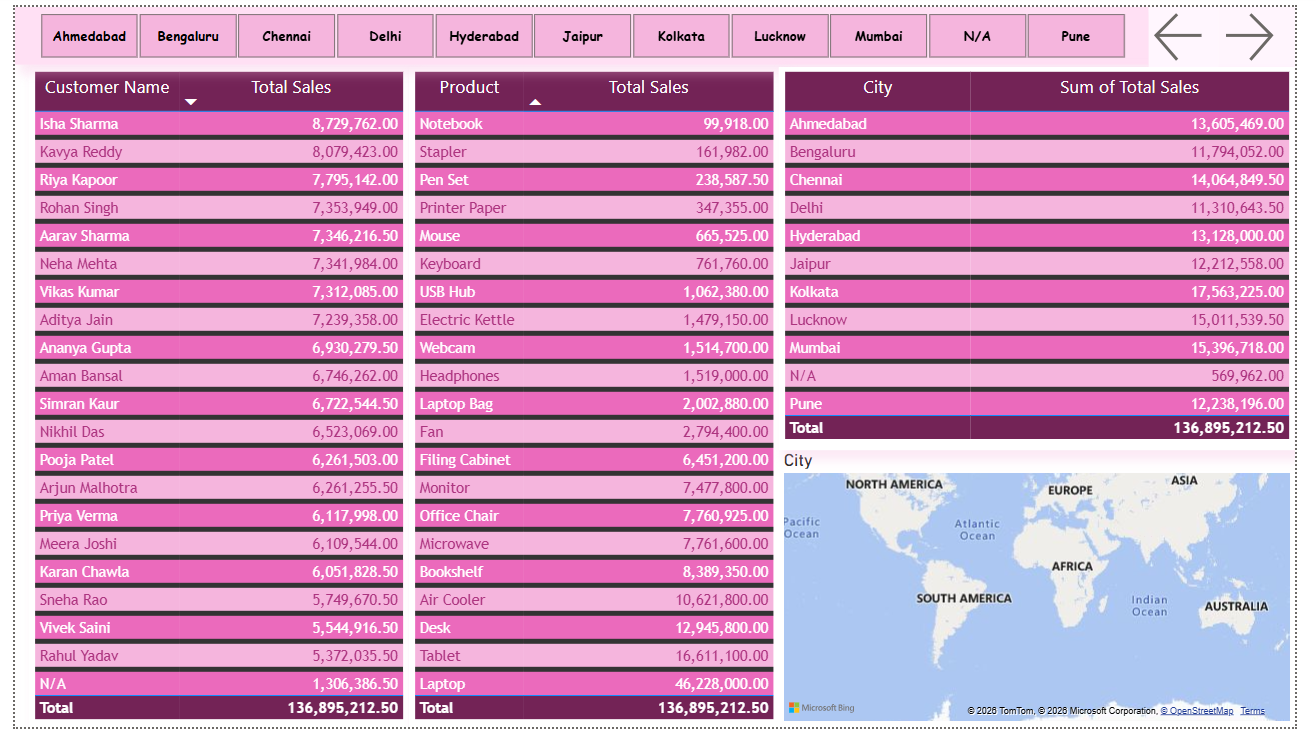

What the dashboard file says about the page in this screenshot:
{"tool":"powerbi","page":{"name":"Tables ","canvas":[1280,720],"ordinal":2},"visuals":[{"type":"tableEx","fields":{"Values":["OrdersTable.Customer_Name","Sum(OrdersTable.Total Sales)"]},"box":[13.8,60,380,660],"z":0},{"type":"tableEx","fields":{"Values":["OrdersTable.Product","Sum(OrdersTable.Total Sales)"]},"box":[393.8,60,370,660],"z":1000},{"type":"slicer","fields":{"Values":["OrdersTable.City"]},"box":[0,0,1133.5,57.6],"z":2000},{"type":"filledMap","fields":{"Category":["OrdersTable.City"]},"box":[763.8,442.5,516.2,277.5],"z":3000},{"type":"tableEx","fields":{"Values":["OrdersTable.City","Sum(OrdersTable.Total Sales)"]},"box":[764,60,516,383],"z":4000},{"type":"actionButton","box":[1133.5,0,69.6,60],"z":5000},{"type":"actionButton","box":[1203.2,0,76.8,60],"z":6000}]}

Visuals, with their boxes in screenshot pixels (x1, y1, x2, y2), scaled from the page's 1280x720 canvas onto the 1316x735 screenshot:
tableEx - OrdersTable.Customer_Name x Sum(OrdersTable.Total Sales): pyautogui.locateOnScreen(14, 61, 405, 734)
tableEx - OrdersTable.Product x Sum(OrdersTable.Total Sales): pyautogui.locateOnScreen(405, 61, 785, 734)
slicer - OrdersTable.City: pyautogui.locateOnScreen(0, 0, 1165, 59)
filledMap - OrdersTable.City: pyautogui.locateOnScreen(785, 452, 1315, 734)
tableEx - OrdersTable.City x Sum(OrdersTable.Total Sales): pyautogui.locateOnScreen(785, 61, 1315, 452)
actionButton: pyautogui.locateOnScreen(1165, 0, 1237, 61)
actionButton: pyautogui.locateOnScreen(1237, 0, 1315, 61)
